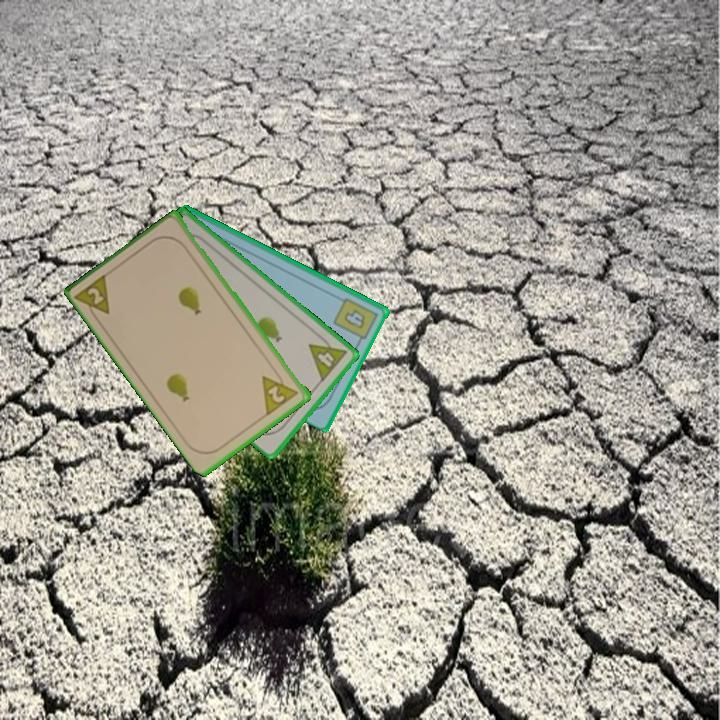2p: (72, 269, 113, 325), (258, 366, 302, 418)
4b: (329, 294, 381, 347)
4p: (305, 330, 350, 384)
